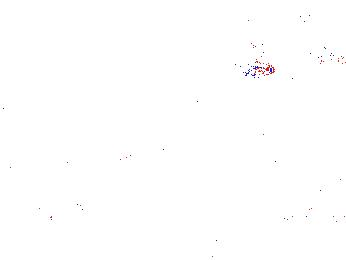glassfish: (78, 128, 186, 196)
red belly glassfish: (235, 61, 275, 77), (249, 41, 274, 61), (310, 51, 334, 69), (325, 44, 346, 62)
redtail glassfish: (295, 5, 346, 28)
